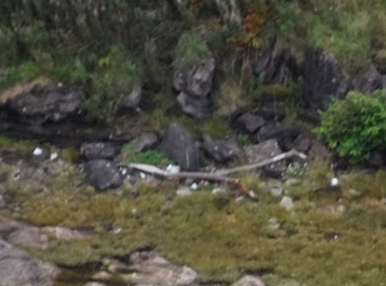straight_bar: (132, 158, 243, 189), (217, 148, 296, 177)
white_in_green: (18, 132, 59, 169)
